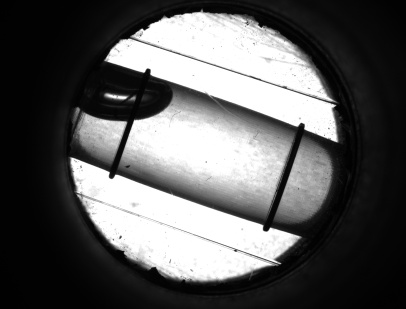line: (261, 143, 303, 213), (109, 126, 136, 159)
